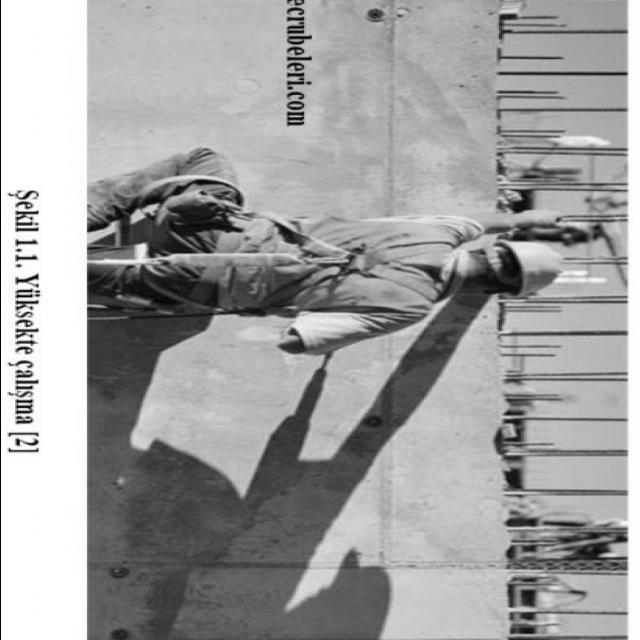safety_helmet: (498, 238, 564, 299)
